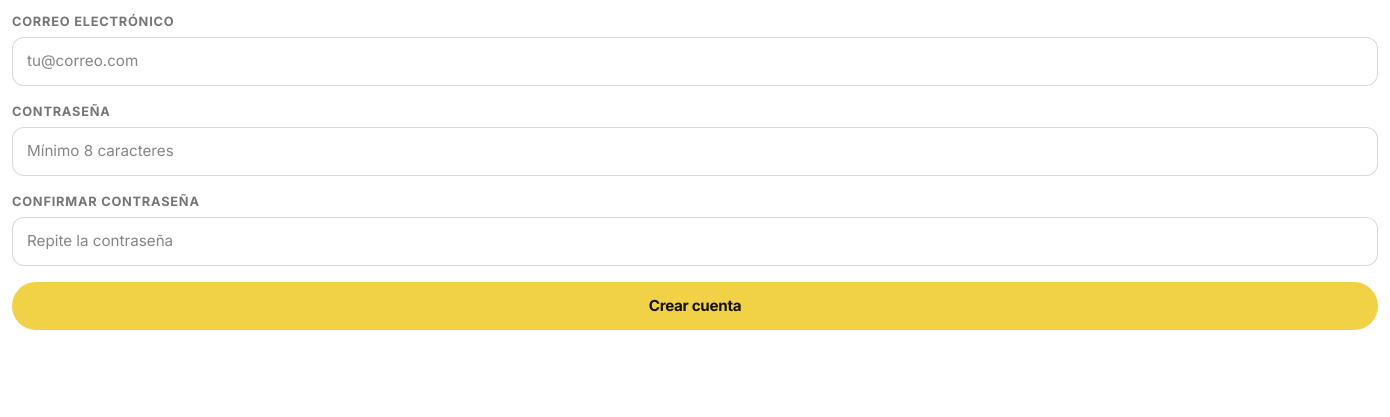
Test: MembershipSignupPanel — Supabase's anti-enumeration empty-identities shape › uses a neutral message instead of confidently asserting the account exists
The image size is (1390, 417).
Type "cliente@example.com" into the field with placeholder "tu@correo.com".
click(695, 62); type("cliente@example.com")  # box [12, 37, 1378, 86]
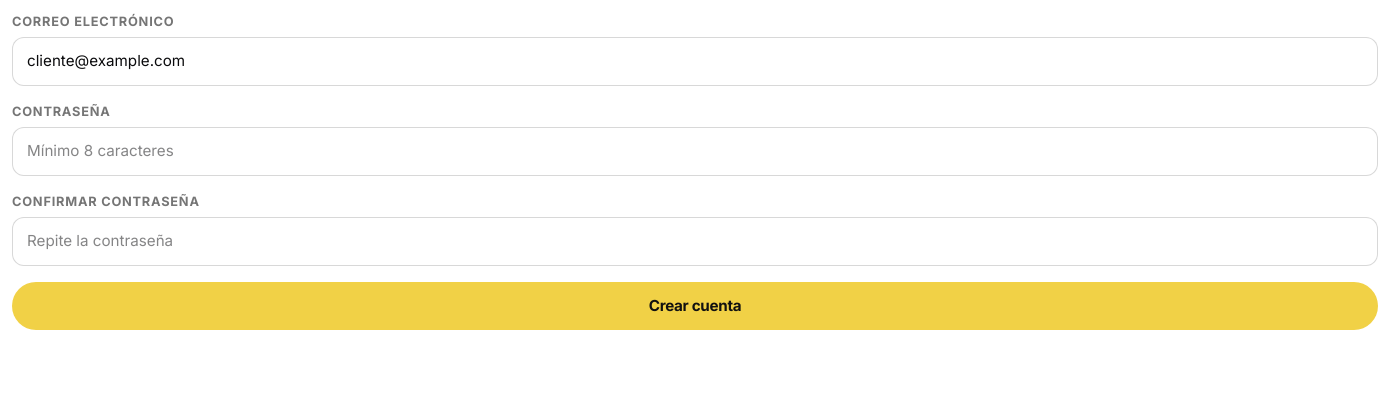
Type "password123" into the password field with placeholder "Mínimo 8 caracteres".
click(695, 152); type("password123")  # box [12, 127, 1378, 176]
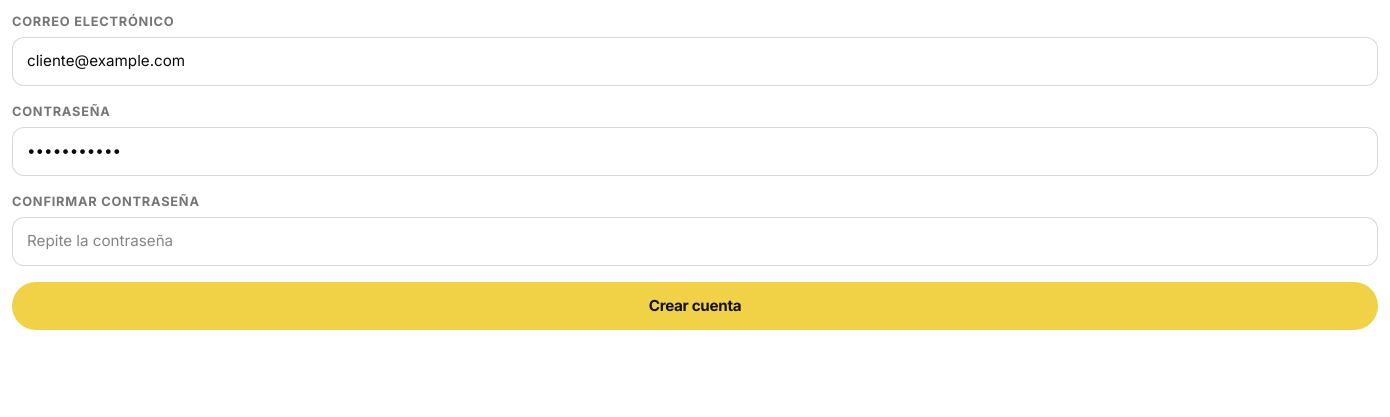
Type "password123" into the password field with placeholder "Repite la contraseña".
click(695, 242); type("password123")  # box [12, 217, 1378, 266]
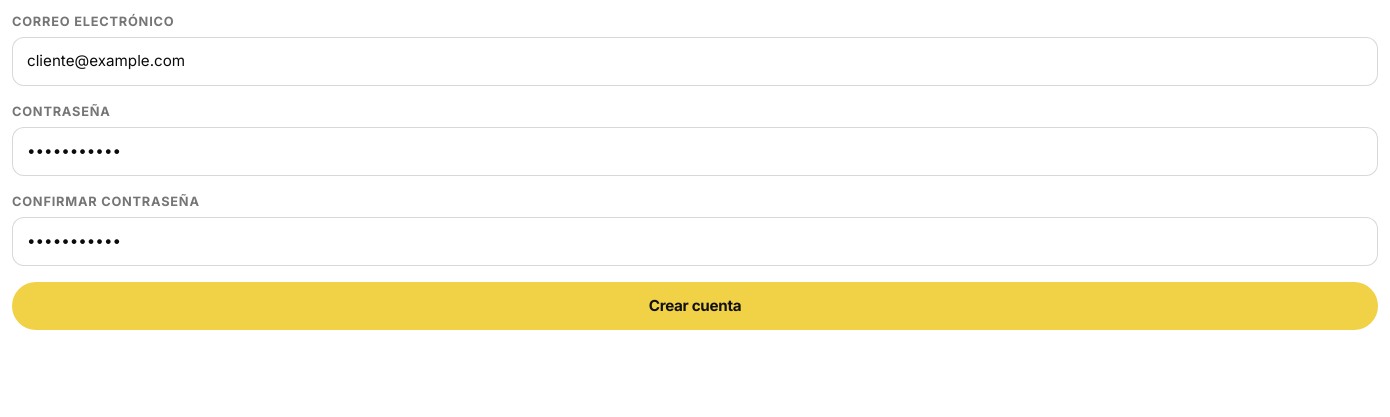
Click the button "Crear cuenta".
click(695, 306)  # box [12, 282, 1378, 330]
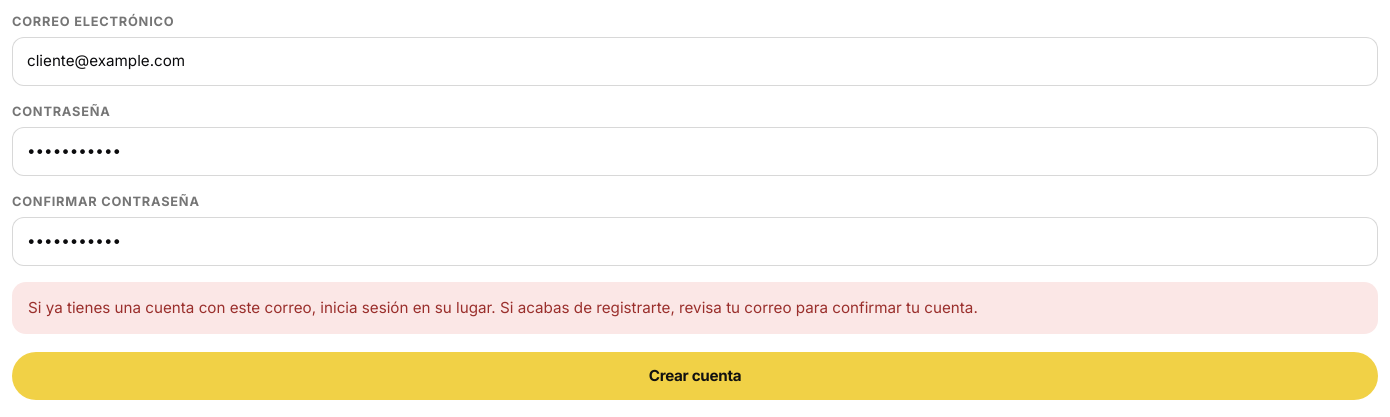
Now the message shows "ya tienes una cuenta", box [28, 298, 978, 317]
Now the message shows "revisa tu correo", box [28, 298, 978, 317]
